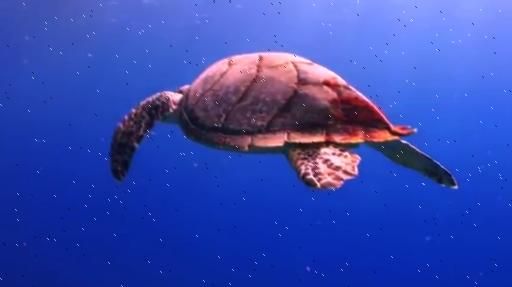Fish: (109, 52, 457, 188)
